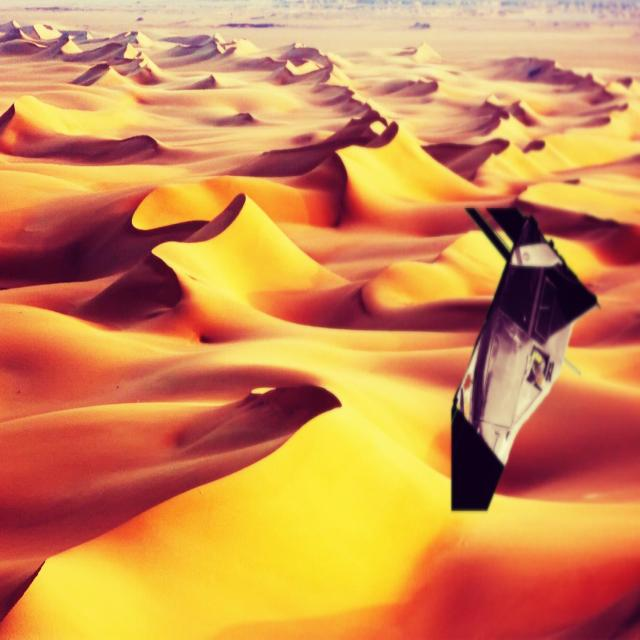airplane: (449, 205, 599, 513)
